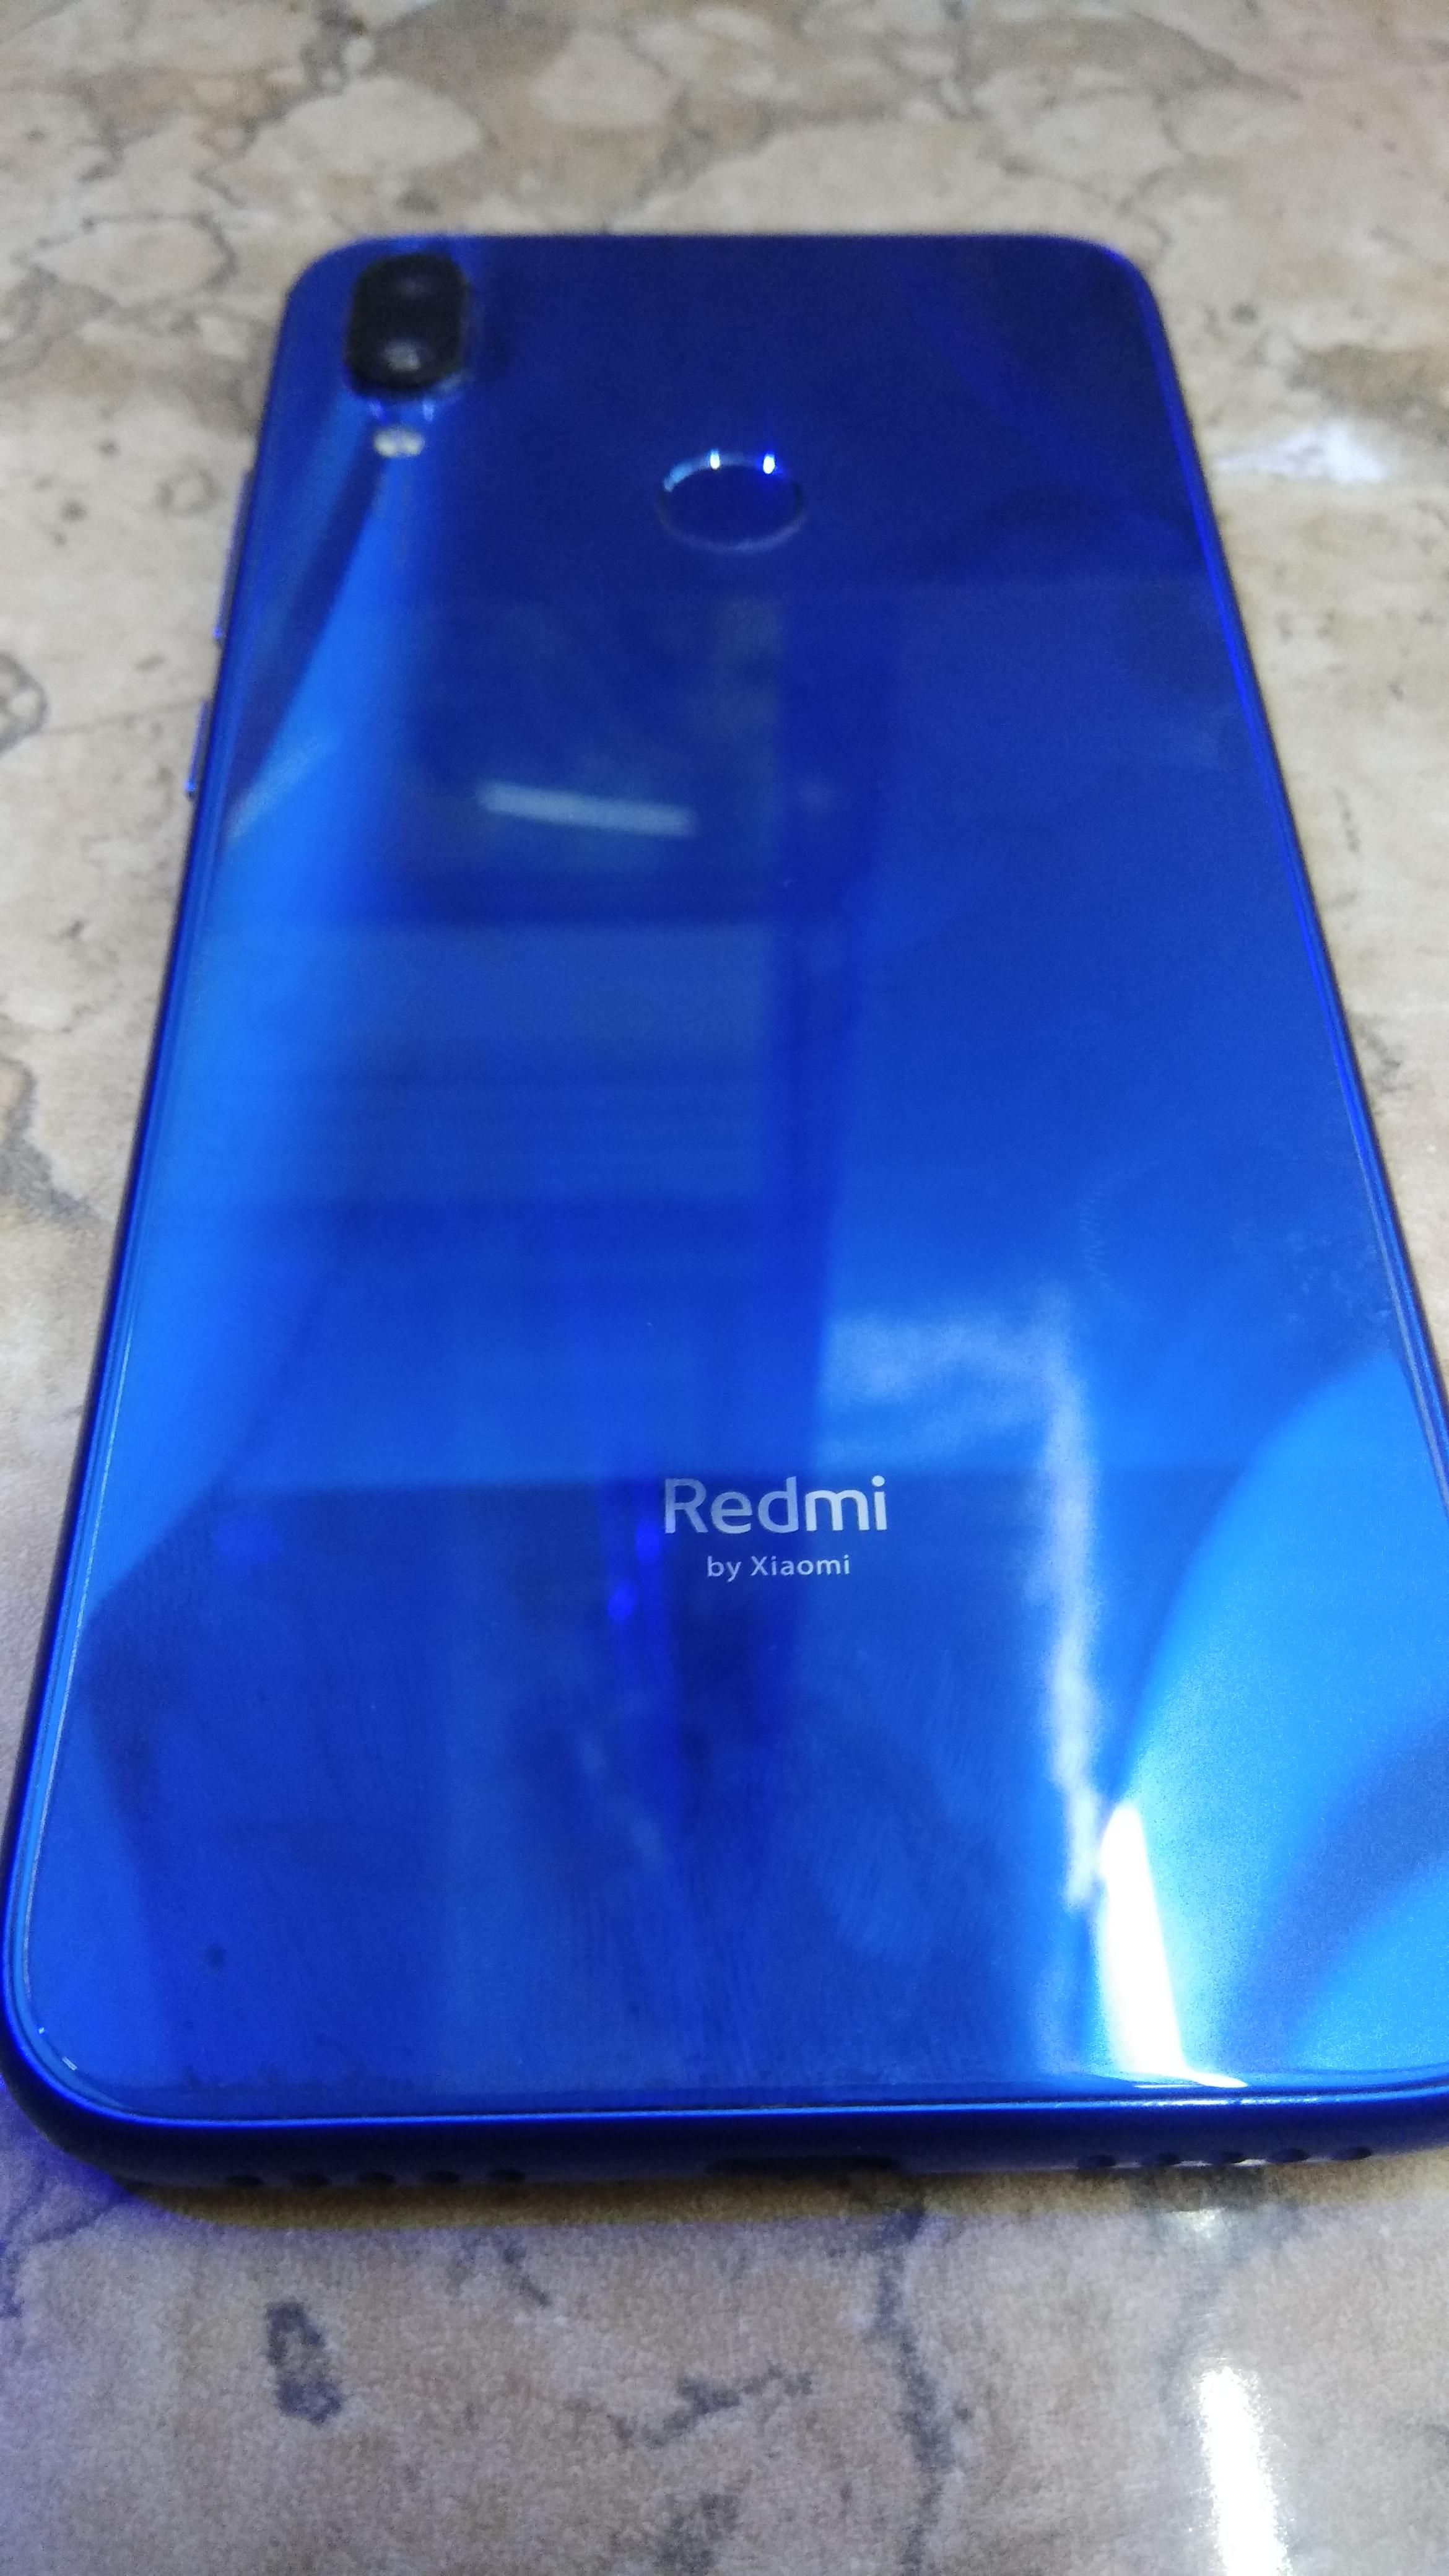Phone: (0, 198, 1449, 2242)
